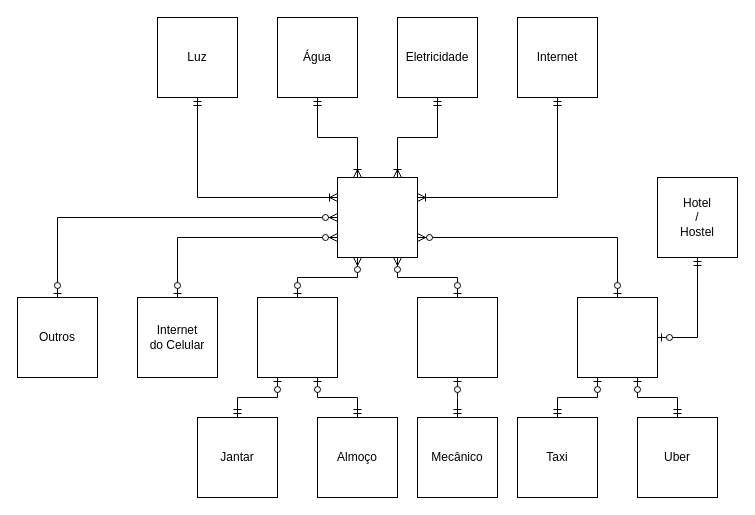
Image size: 755x515. Some labels were removed from this diagram. Here are the shapes that lost their labels. From the top down, the centre of each, then its label:
At (377,217): "Membro da Família".
At (297,337): "Alimentação".
At (457,337): "Manutenção com o Carro".
At (617,337): "Viagem".
